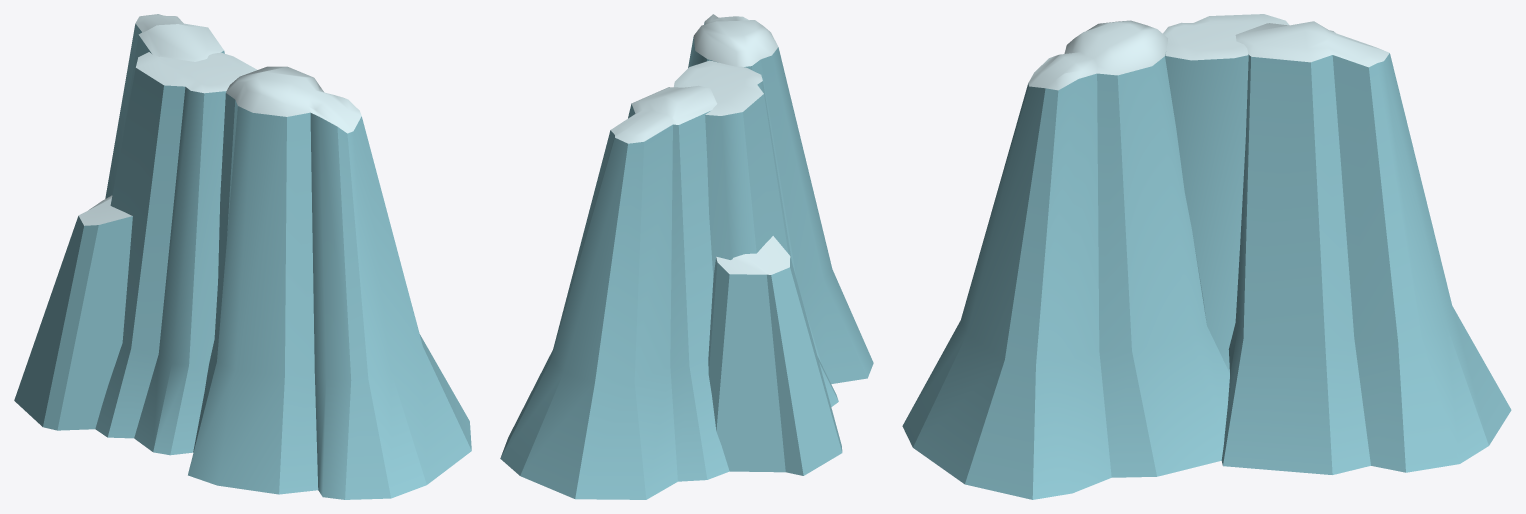
The model's file is mdl_iceCliff03.fbx.
3 views of the same model, side by side, from view 1: azimuth 30°, elevation 25°; view 2: azimuth 150°, elevation 25°; view 3: azimuth 270°, elevation 25° (orthographic). The views are drawn at different scales.
Visible parts, largest first — view 1: mdl_iceCliff07; view 2: mdl_iceCliff07; view 3: mdl_iceCliff07.
Part boxes in pixels (x1,y1,x2,y2): mdl_iceCliff07: [14, 14, 471, 499]; mdl_iceCliff07: [500, 14, 873, 499]; mdl_iceCliff07: [902, 14, 1511, 499].
Bounding box in the file's own units: 320 × 329 × 472.
1 material, 1 textured.
